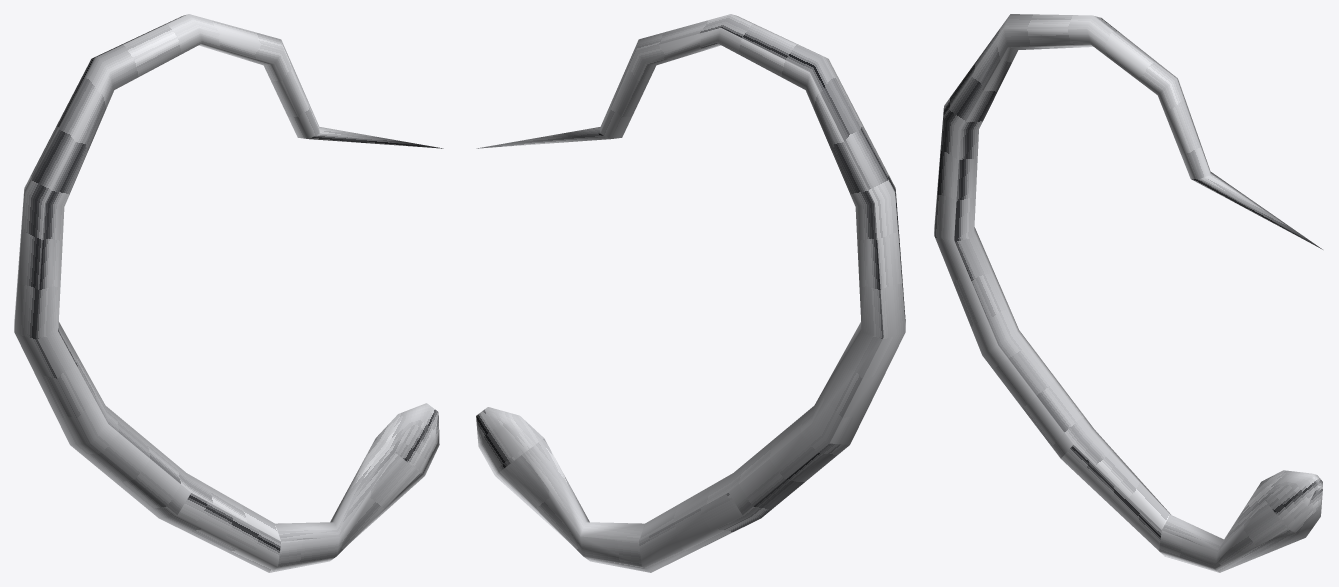
Rendered from snake_000043.obj.
3 renders of one model, left to right at view 1: azimuth 30°, elevation 25°; view 2: azimuth 150°, elevation 25°; view 3: azimuth 330°, elevation 25°, orthographic. The views are drawn at different scales.
Visible parts, largest first — view 1: Cylinder; view 2: Cylinder; view 3: Cylinder.
Boxes of the visible parts, box(x1,y1,x2,y2) form: Cylinder: box(14, 14, 443, 572); Cylinder: box(476, 14, 905, 572); Cylinder: box(934, 14, 1322, 572).
Bounding box in the file's own units: 3.96 × 5.1 × 0.3671.
